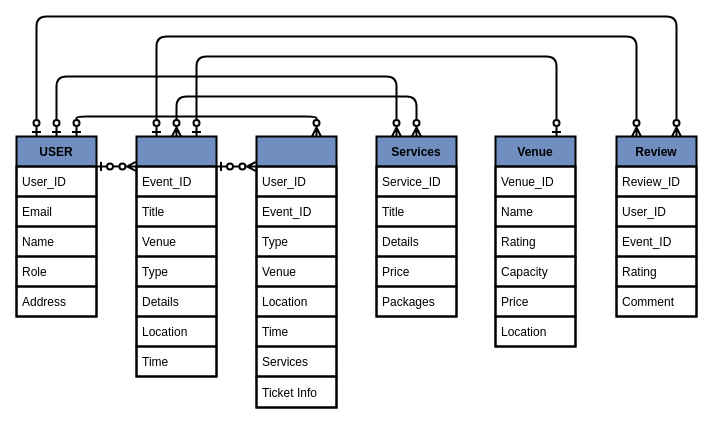
This 713x424 diagram has some shape labels left out. The box of each missing label's shape, as (x1, y1, x2, y2) in pixels:
Bookings: (255, 135, 337, 408)
EVENTS: (135, 135, 217, 377)
